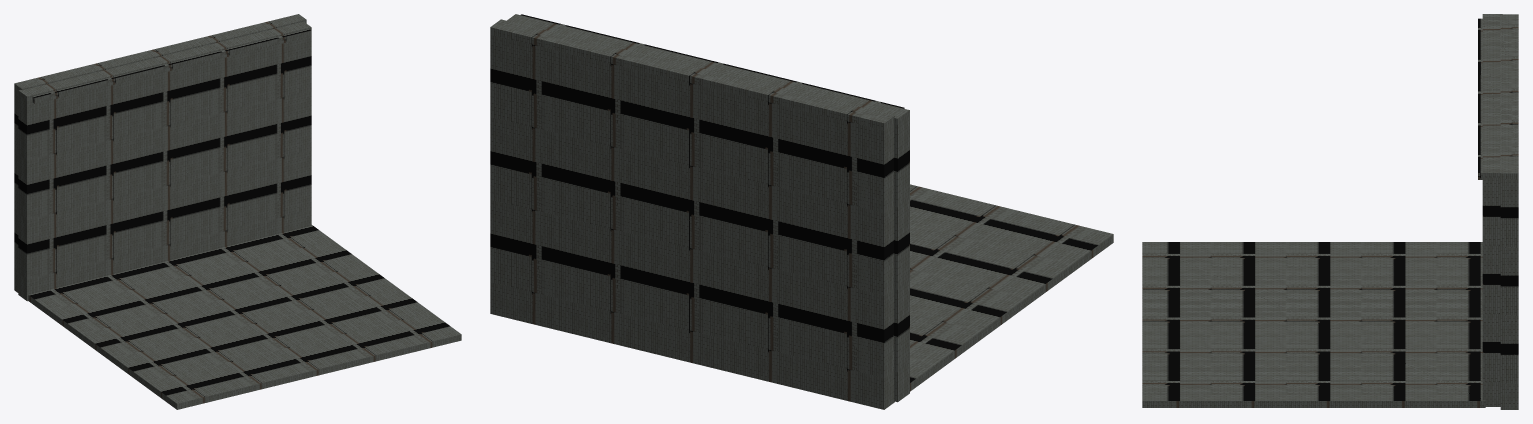
The model's file is dungeon_room_wall_floor.glb.
3 views of the same model, side by side, from view 1: azimuth 30°, elevation 25°; view 2: azimuth 150°, elevation 25°; view 3: azimuth 270°, elevation 25° (orthographic). The views are drawn at different scales.
Parts seen in each view (by area): view 1: dungeon_room_wall_floor; view 2: dungeon_room_wall_floor; view 3: dungeon_room_wall_floor.
Part boxes in pixels (box(x1,y1,x2,y2)): dungeon_room_wall_floor: box(14, 14, 461, 409); dungeon_room_wall_floor: box(490, 14, 1113, 409); dungeon_room_wall_floor: box(1142, 14, 1518, 409).
Bounding box in the file's own units: 5.05 × 3.47 × 5.
1 material, 1 textured.
